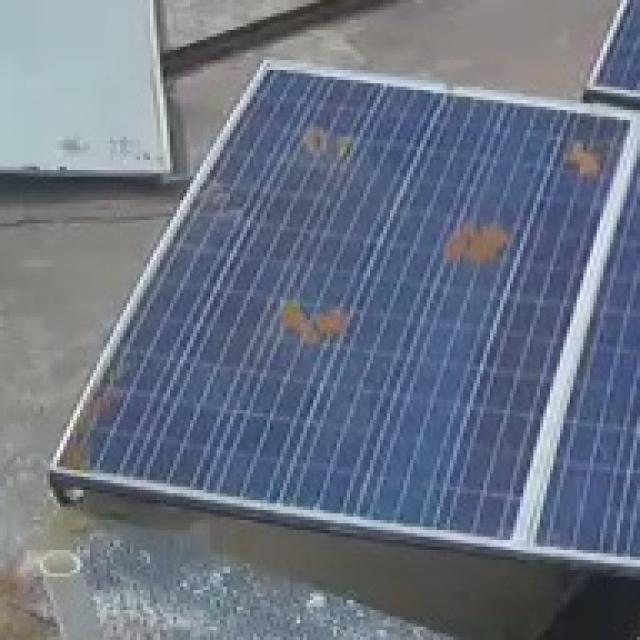Dusty: (56, 372, 130, 473), (435, 210, 517, 275), (267, 292, 361, 347), (291, 112, 357, 177), (564, 127, 609, 185)
